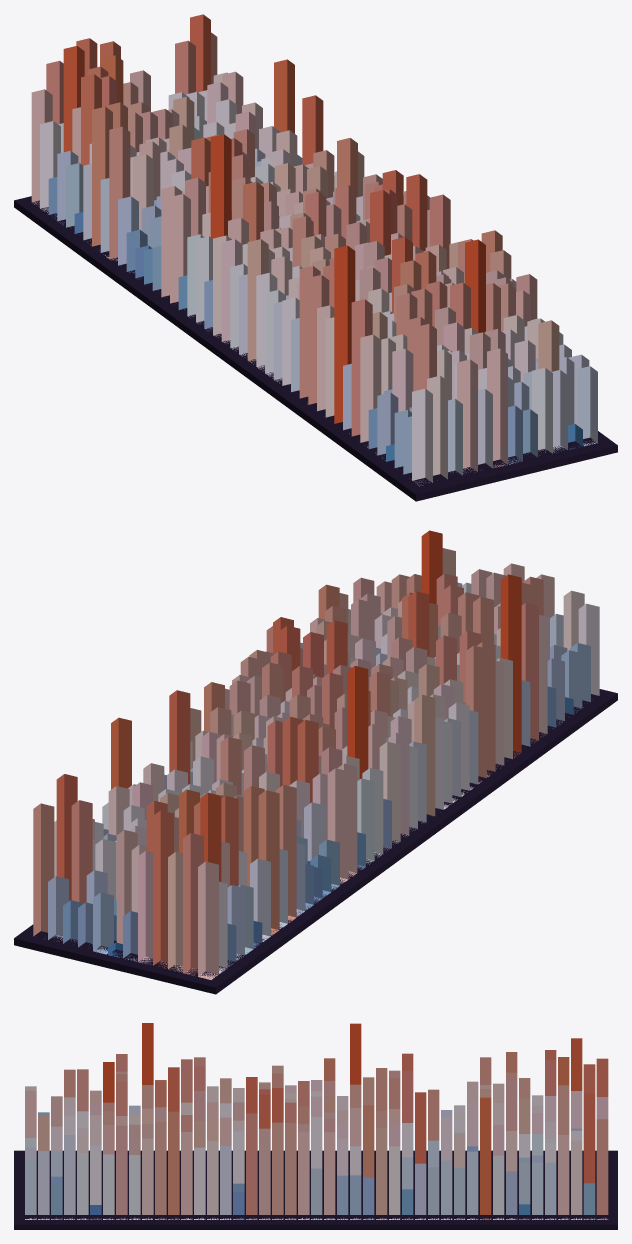
Rendered from thar.glb.
3 views of the same model, one above another, from view 1: azimuth 30°, elevation 25°; view 2: azimuth 150°, elevation 25°; view 3: azimuth 270°, elevation 25° (orthographic). The views are drawn at different scales.
Visible parts, largest first — view 1: base, g3, g20, g28, g0, g1, g29, g37, g27, g4, g13, g7 (+21 smaller); view 2: g20, base, g28, g3, g0, g37, g45, g29, g1, g17, g35, g13 (+23 smaller); view 3: base, g3, g30, g0, g20, g2, g37, g1, g28, g7, g4, g13 (+24 smaller).
Boxes of the visible parts, x1=… form: base: x1=14, y1=196, x2=617, y2=501; g3: x1=31, y1=71, x2=507, y2=473; g20: x1=109, y1=32, x2=500, y2=404; g28: x1=46, y1=40, x2=470, y2=436; g0: x1=40, y1=90, x2=527, y2=486; g1: x1=130, y1=72, x2=544, y2=479; g29: x1=210, y1=134, x2=485, y2=423; g37: x1=190, y1=14, x2=427, y2=313; g27: x1=130, y1=102, x2=516, y2=447; g4: x1=83, y1=148, x2=589, y2=468; g13: x1=169, y1=97, x2=559, y2=371; g7: x1=58, y1=116, x2=563, y2=453; g20: x1=33, y1=574, x2=543, y2=936; base: x1=14, y1=689, x2=617, y2=994; g28: x1=71, y1=573, x2=538, y2=975; g3: x1=175, y1=563, x2=554, y2=979; g0: x1=92, y1=603, x2=599, y2=973; g37: x1=56, y1=591, x2=429, y2=900; g45: x1=146, y1=716, x2=318, y2=968; g29: x1=347, y1=530, x2=521, y2=778; g1: x1=54, y1=590, x2=584, y2=876; g17: x1=116, y1=569, x2=505, y2=943; g35: x1=204, y1=584, x2=437, y2=935; g13: x1=160, y1=548, x2=455, y2=816; base: x1=14, y1=1150, x2=617, y2=1229; g3: x1=25, y1=1085, x2=569, y2=1219; g30: x1=103, y1=1072, x2=569, y2=1219; g0: x1=64, y1=1095, x2=582, y2=1219; g20: x1=64, y1=1057, x2=608, y2=1219; g2: x1=25, y1=1105, x2=556, y2=1219; g37: x1=168, y1=1067, x2=595, y2=1183; g1: x1=25, y1=1086, x2=582, y2=1219; g28: x1=116, y1=1054, x2=309, y2=1219; g7: x1=25, y1=1131, x2=556, y2=1219; g4: x1=25, y1=1107, x2=452, y2=1219; g13: x1=38, y1=1065, x2=530, y2=1219.
Size of the model in its own units: 0.182 by 0.1624 by 0.6275.
